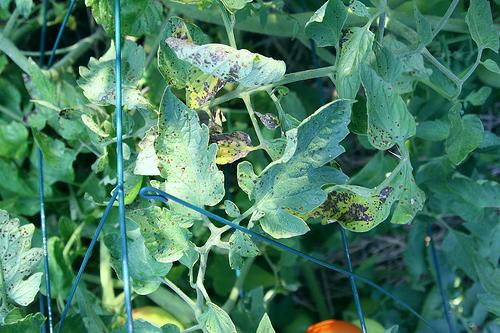Tomato Septoria leaf spot: (230, 97, 363, 238), (149, 84, 229, 227), (314, 162, 429, 242), (155, 15, 226, 117), (79, 29, 150, 130), (172, 34, 287, 94), (359, 58, 415, 153), (127, 201, 198, 265), (221, 228, 262, 275)
